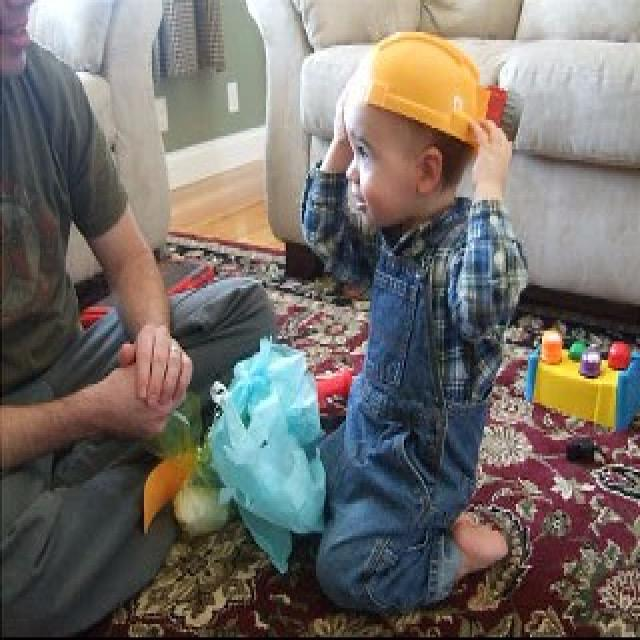Safety-Helmet: (338, 24, 500, 160)
